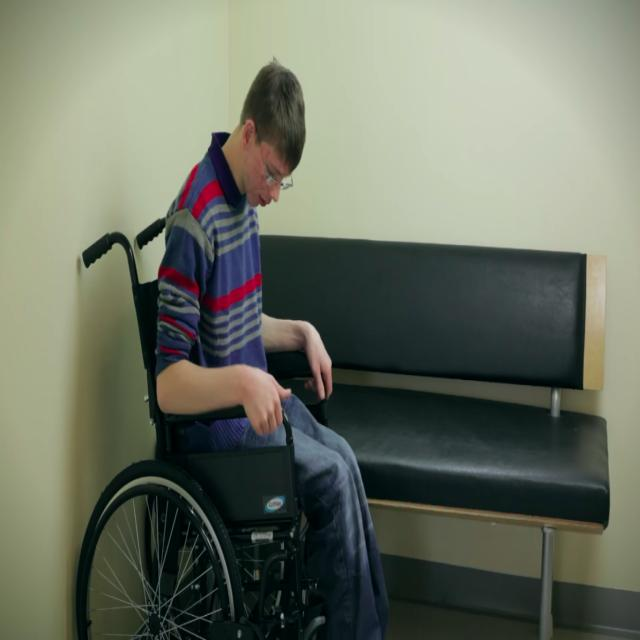wheelchairs: (77, 215, 333, 640)
